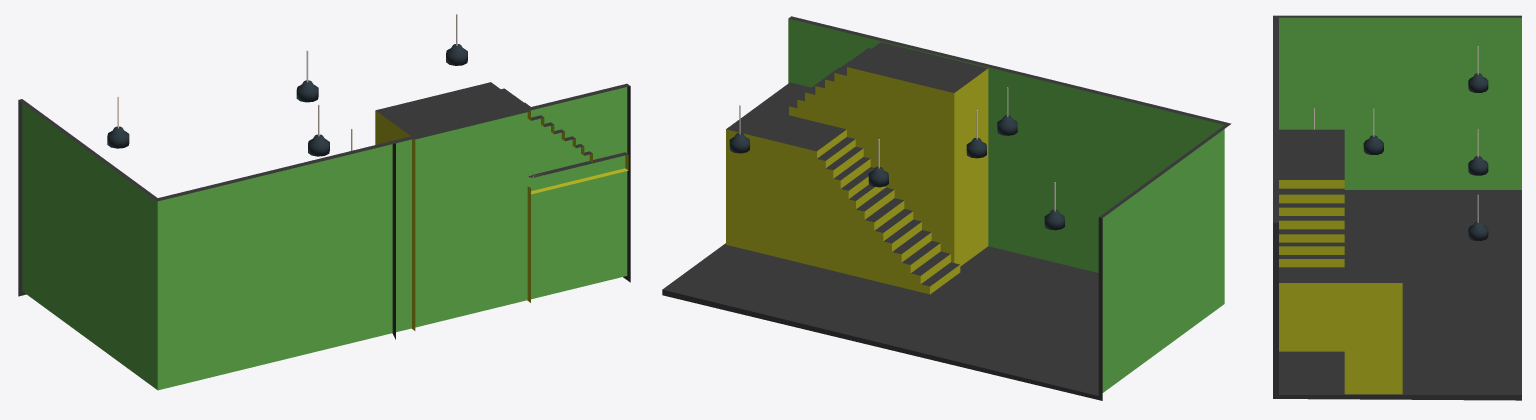
The model's file is Coffe_room1.fbx.
3 renders of one model, left to right at view 1: azimuth 30°, elevation 25°; view 2: azimuth 150°, elevation 25°; view 3: azimuth 270°, elevation 25°, orthographic. The views are drawn at different scales.
Visible parts, largest first — view 1: Coffe_room, Coffe_room.001; view 2: Coffe_room, Coffe_room.001; view 3: Coffe_room, Coffe_room.001.
Part boxes in pixels (x1,y1,x2,y2): Coffe_room: (18, 14, 630, 390); Coffe_room.001: (375, 82, 628, 330); Coffe_room: (662, 16, 1231, 400); Coffe_room.001: (726, 42, 988, 294); Coffe_room: (1273, 15, 1521, 400); Coffe_room.001: (1279, 129, 1402, 394).
Bounding box in the file's own units: 8.27 × 3.42 × 4.26.
